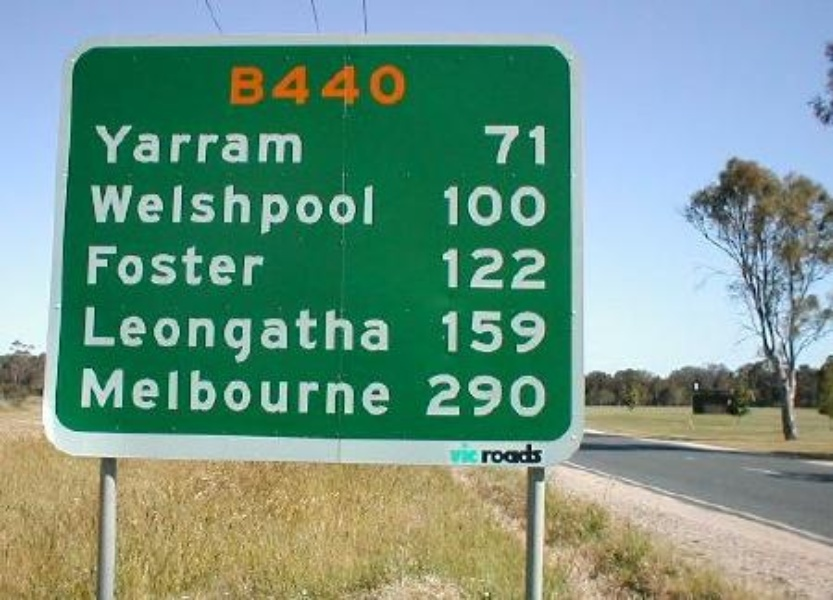text: (97, 306, 112, 365), (113, 306, 128, 365), (129, 306, 144, 365), (145, 306, 160, 365), (161, 306, 176, 365), (177, 306, 192, 365), (193, 306, 208, 365), (209, 306, 224, 365), (225, 306, 240, 365), (241, 306, 256, 365), (257, 306, 272, 365), (273, 306, 288, 365), (289, 306, 304, 365), (305, 306, 320, 365), (321, 306, 336, 365), (337, 306, 352, 365), (353, 306, 368, 365), (369, 306, 384, 365), (97, 184, 112, 238), (113, 184, 128, 238), (129, 184, 144, 238), (145, 184, 160, 238), (161, 184, 176, 238), (177, 184, 192, 238), (193, 184, 208, 238), (209, 184, 224, 238), (225, 184, 240, 238), (241, 184, 256, 238), (257, 184, 272, 238), (273, 184, 288, 238), (289, 184, 304, 238), (305, 184, 320, 238), (321, 184, 336, 238), (337, 184, 352, 238), (353, 184, 368, 238), (449, 245, 464, 293), (465, 245, 480, 293), (481, 245, 496, 293), (497, 245, 512, 293), (513, 245, 528, 293), (529, 245, 544, 293), (449, 308, 464, 356), (465, 308, 480, 356), (481, 308, 496, 356), (497, 308, 512, 356), (513, 308, 528, 356), (529, 308, 544, 356), (97, 367, 112, 415), (113, 367, 128, 415), (129, 367, 144, 415), (145, 367, 160, 415), (161, 367, 176, 415), (177, 367, 192, 415), (193, 367, 208, 415), (209, 367, 224, 415), (225, 367, 240, 415), (241, 367, 256, 415), (257, 367, 272, 415), (273, 367, 288, 415), (289, 367, 304, 415), (305, 367, 320, 415), (321, 367, 336, 415), (337, 367, 352, 415), (353, 367, 368, 415), (369, 367, 384, 415), (84, 306, 96, 365), (433, 373, 448, 419), (449, 373, 464, 419), (465, 373, 480, 419), (481, 373, 496, 419), (497, 373, 512, 419), (513, 373, 528, 419), (529, 373, 544, 419), (241, 63, 256, 108), (257, 63, 272, 108), (273, 63, 288, 108), (289, 63, 304, 108), (305, 63, 320, 108), (321, 63, 336, 108), (337, 63, 352, 108), (353, 63, 368, 108), (369, 63, 384, 108), (385, 63, 400, 108), (82, 367, 96, 415), (449, 184, 464, 228), (465, 184, 480, 228), (481, 184, 496, 228), (497, 184, 512, 228), (513, 184, 528, 228), (529, 184, 544, 228), (97, 245, 112, 288), (113, 245, 128, 288), (129, 245, 144, 288), (145, 245, 160, 288), (161, 245, 176, 288), (177, 245, 192, 288), (193, 245, 208, 288), (209, 245, 224, 288), (225, 245, 240, 288), (241, 245, 256, 288), (97, 125, 112, 167), (113, 125, 128, 167), (129, 125, 144, 167), (145, 125, 160, 167), (161, 125, 176, 167), (177, 125, 192, 167), (193, 125, 208, 167), (209, 125, 224, 167), (225, 125, 240, 167), (241, 125, 256, 167), (257, 125, 272, 167), (273, 125, 288, 167), (289, 125, 304, 167), (497, 125, 512, 165), (513, 125, 528, 165), (529, 125, 544, 165), (484, 125, 496, 165), (230, 63, 240, 108), (439, 308, 448, 356), (89, 184, 96, 238), (424, 373, 432, 419), (481, 443, 496, 467), (497, 443, 512, 467), (513, 443, 528, 467), (88, 245, 96, 288), (257, 245, 265, 288), (441, 245, 448, 293), (529, 443, 543, 467), (369, 184, 374, 238), (449, 445, 464, 463), (385, 306, 389, 365), (465, 445, 478, 463), (401, 63, 406, 108), (443, 184, 448, 228), (385, 367, 389, 415), (545, 308, 548, 356), (545, 245, 547, 293), (545, 373, 547, 419), (545, 184, 547, 228), (545, 125, 547, 165), (95, 125, 96, 167)
